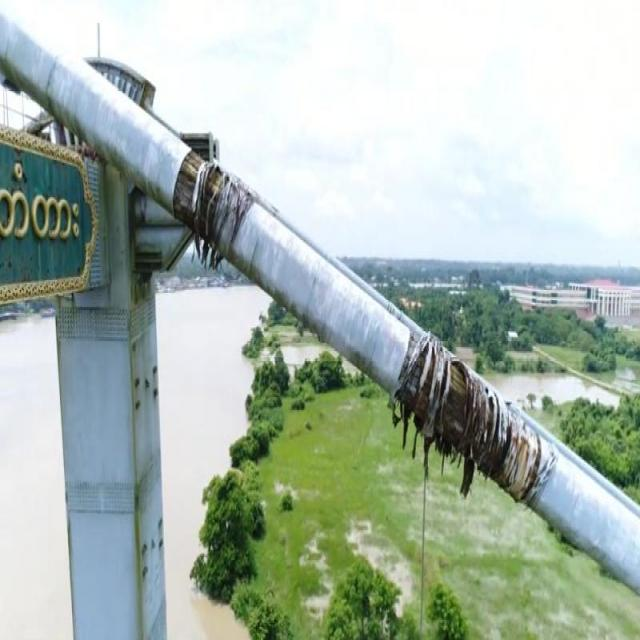corrosion: (394, 322, 550, 510), (167, 138, 255, 268)
crack: (44, 43, 60, 99)
